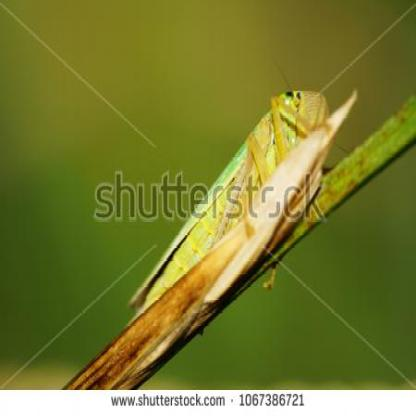Green-Leafhopper: (130, 77, 338, 334)
